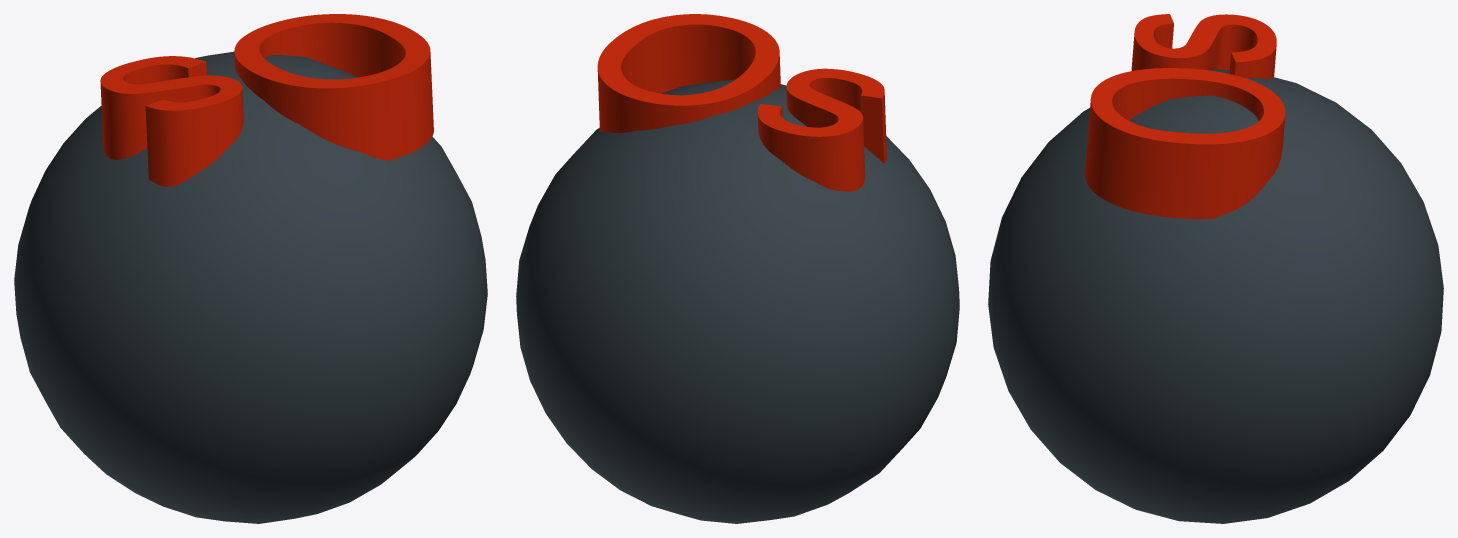
3 views of the same model, side by side, from view 1: azimuth 30°, elevation 25°; view 2: azimuth 150°, elevation 25°; view 3: azimuth 270°, elevation 25° (orthographic). The views are drawn at different scales.
Visible parts, largest first — view 1: Os; view 2: Os; view 3: Os.
Part boxes in pixels (x1,y1,x2,y2): Os: (14, 14, 487, 523); Os: (516, 14, 959, 523); Os: (988, 14, 1443, 523).
Size of the model in its own units: 38.69 by 40.74 by 38.7.
